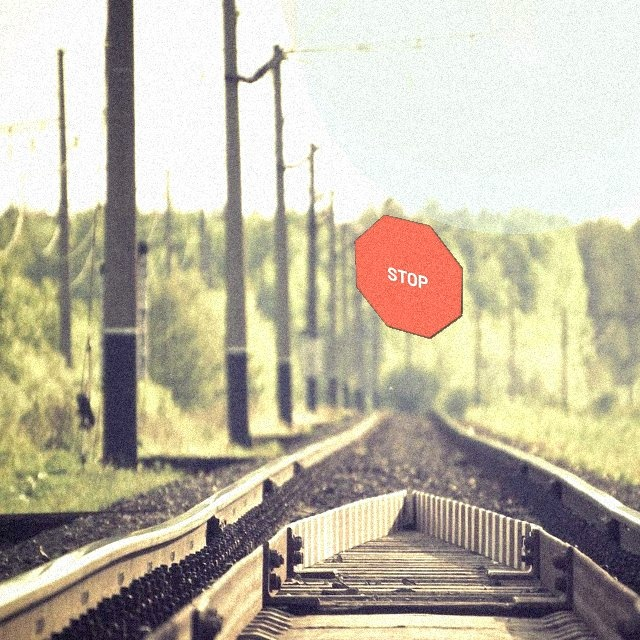STOP: (354, 214, 463, 339)
